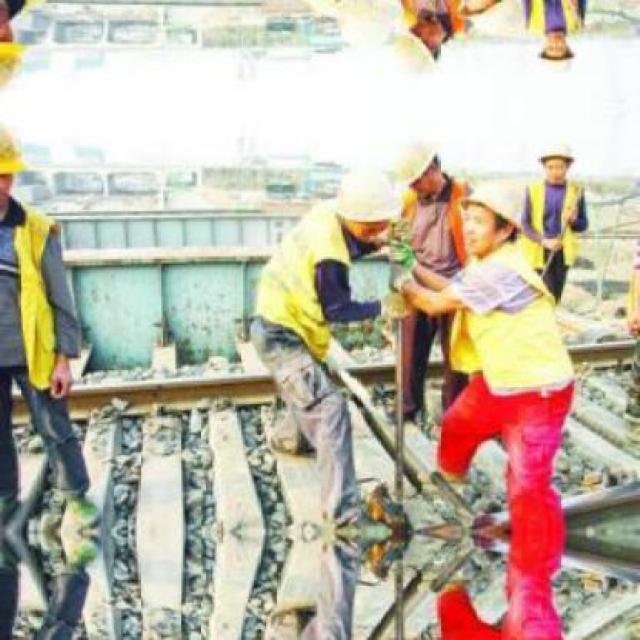Reflective-Jacket: (442, 244, 578, 406), (241, 204, 357, 367), (0, 205, 77, 401), (402, 180, 482, 322), (517, 175, 597, 278)
Safety-Helmet: (328, 159, 408, 233), (381, 126, 457, 192), (460, 179, 531, 236), (0, 103, 42, 199), (526, 125, 583, 171)
